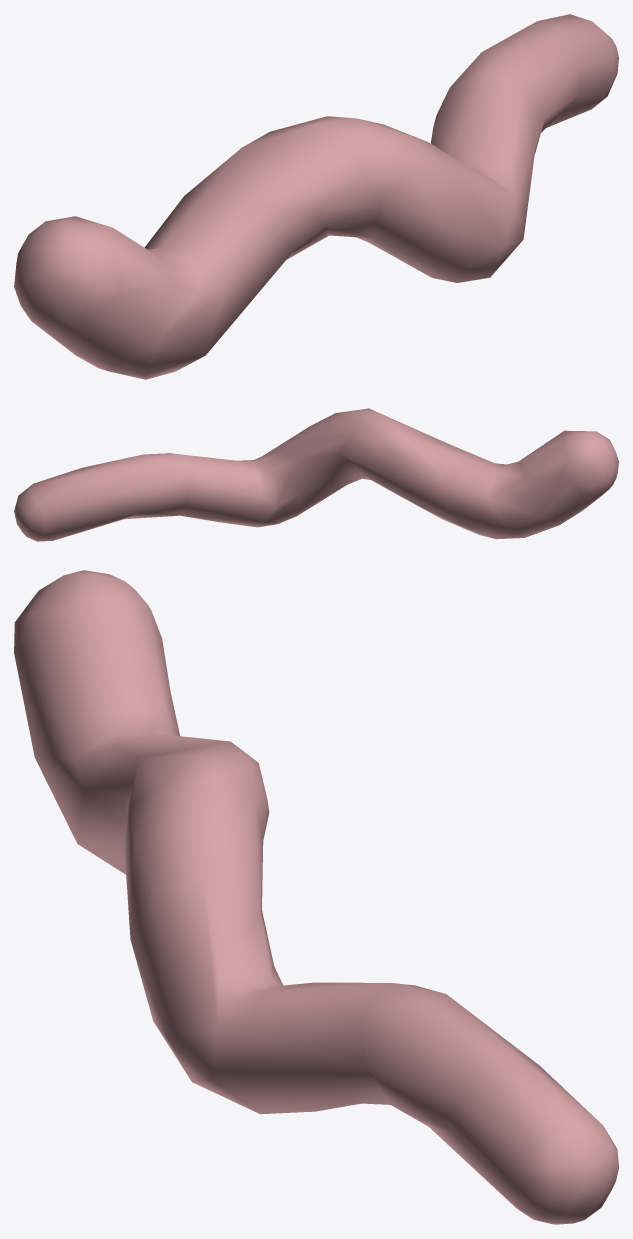
The picture shows the model from 3 angles, top to bottom: view 1: azimuth 30°, elevation 25°; view 2: azimuth 150°, elevation 25°; view 3: azimuth 270°, elevation 25°; orthographic projection. The views are drawn at different scales.
Parts seen in each view (by area): view 1: ZA_323cd4e8d34b51ee; view 2: ZA_323cd4e8d34b51ee; view 3: ZA_323cd4e8d34b51ee.
Boxes of the visible parts, box(x1,y1,x2,y2) form: ZA_323cd4e8d34b51ee: box(14, 14, 618, 379); ZA_323cd4e8d34b51ee: box(14, 408, 618, 541); ZA_323cd4e8d34b51ee: box(14, 570, 618, 1224).
Size of the model in its own units: 0.0696 by 0.0181 by 0.039.
